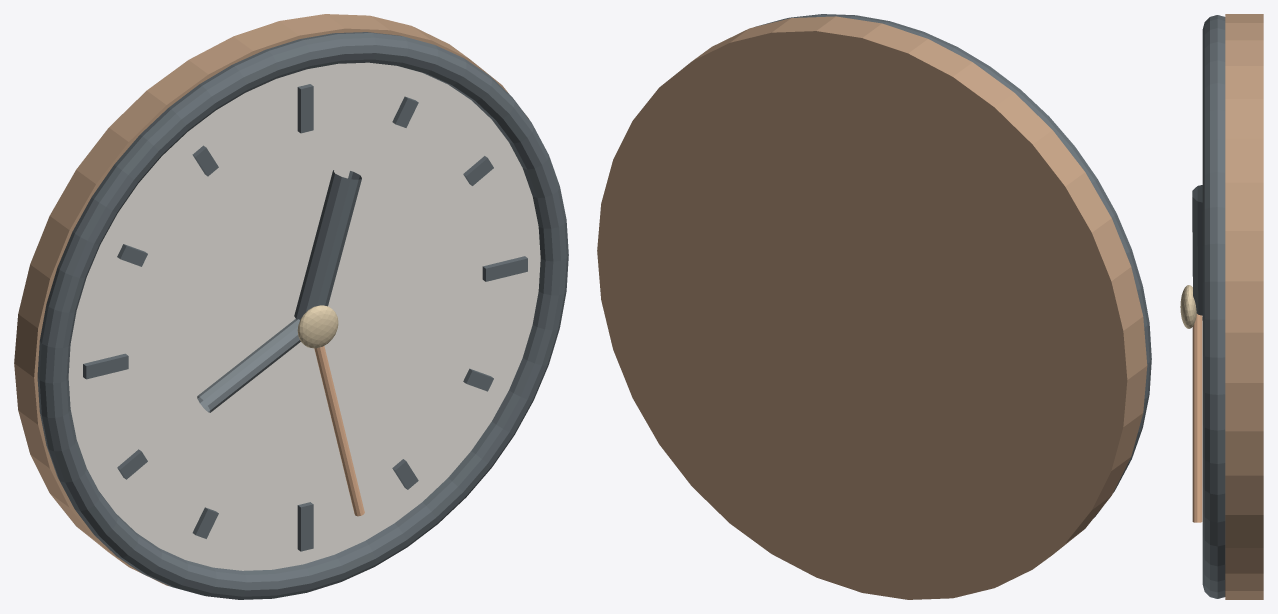
Rendered from wall-clock.glb.
The picture shows the model from 3 angles, left to right: view 1: azimuth 30°, elevation 25°; view 2: azimuth 150°, elevation 25°; view 3: azimuth 270°, elevation 25°; orthographic projection. The views are drawn at different scales.
Visible parts, largest first — view 1: ivory_1, graphite_2, clock_body_0, graphite_3, graphite_4, graphite2_5, orange_6, brass_7; view 2: clock_body_0, graphite_2; view 3: clock_body_0, graphite_2, orange_6, graphite_4, brass_7.
Boxes of the visible parts, x1,y1,x2,y2 form: ivory_1: [68, 62, 540, 570]; graphite_2: [37, 32, 568, 599]; clock_body_0: [14, 14, 528, 585]; graphite_3: [83, 84, 527, 551]; graphite_4: [294, 170, 361, 319]; graphite2_5: [197, 319, 300, 412]; orange_6: [314, 346, 364, 516]; brass_7: [297, 305, 338, 348]; clock_body_0: [597, 16, 1147, 599]; graphite_2: [755, 14, 1151, 517]; clock_body_0: [1225, 14, 1263, 599]; graphite_2: [1202, 15, 1225, 598]; orange_6: [1192, 314, 1202, 522]; graphite_4: [1192, 185, 1202, 315]; brass_7: [1180, 285, 1196, 328].
Size of the model in its own units: 1.38 by 1.38 by 0.195.
